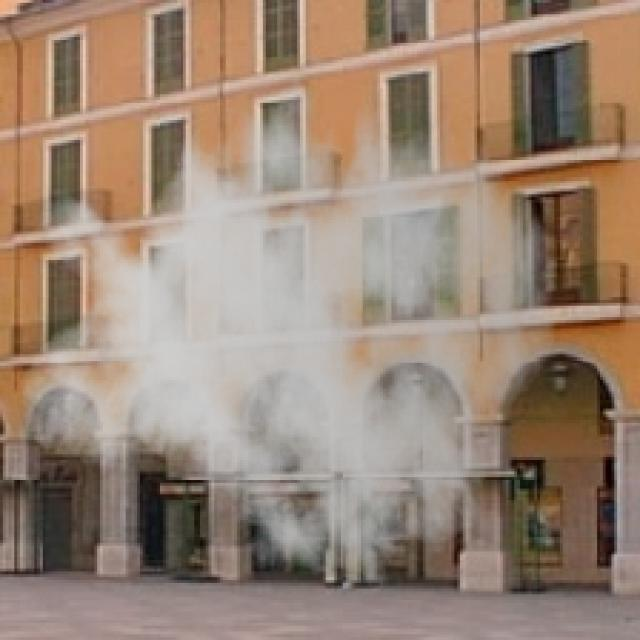smoke: (17, 48, 557, 603)
